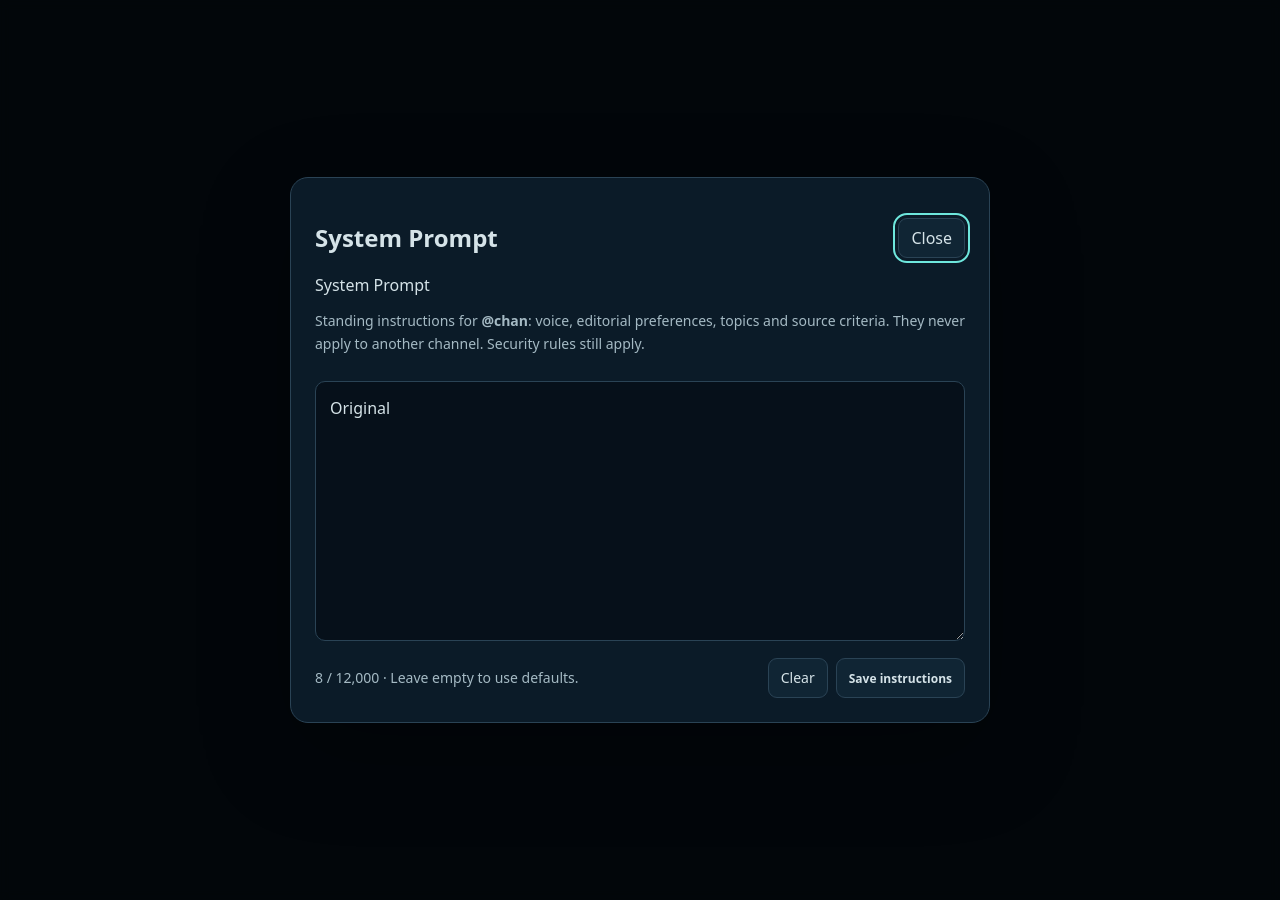
it: sends the loaded prompt and preserves edits after a concurrent save
Replace the text in the text box with "My edits" at (640, 511), box 315,381 -> 965,641
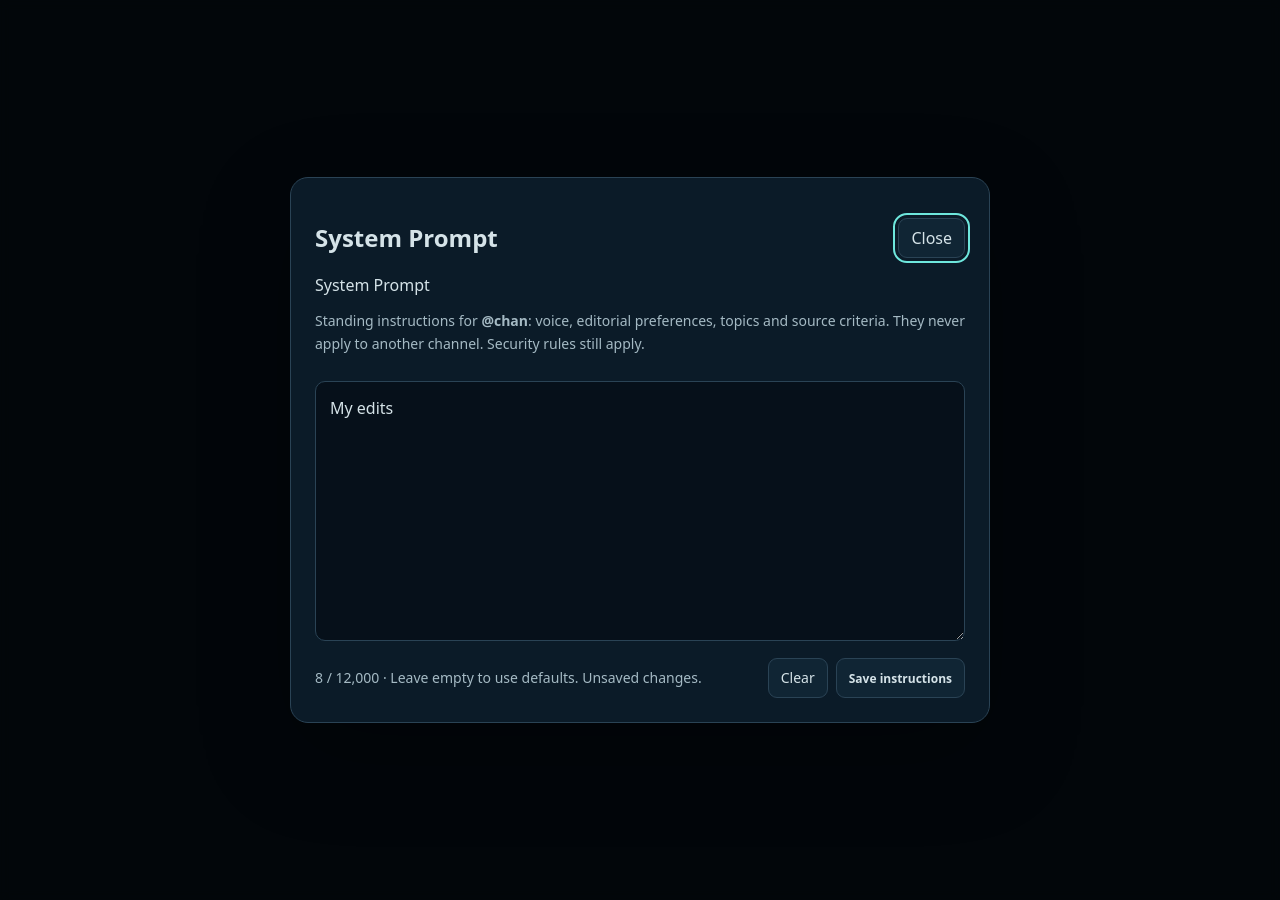
Click the button "Save instructions".
click(900, 678)  # box 836,658 -> 965,698
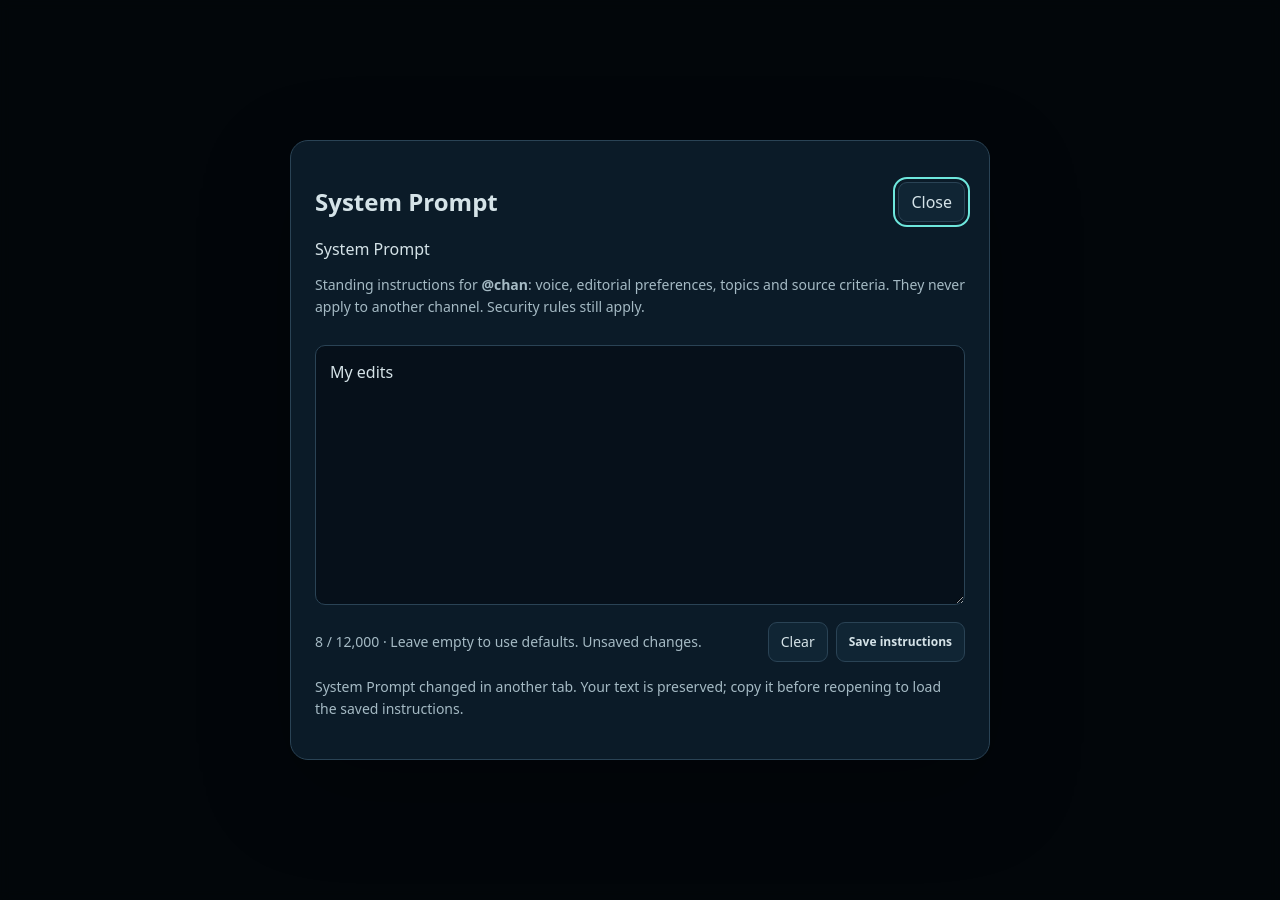
Now the text "changed in another tab" is shown, box 315,677 -> 941,718
